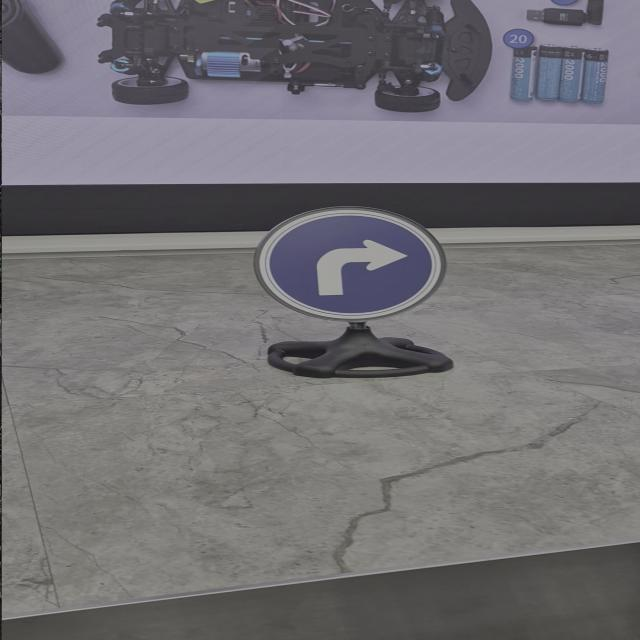right_dierection: (237, 195, 493, 332)
